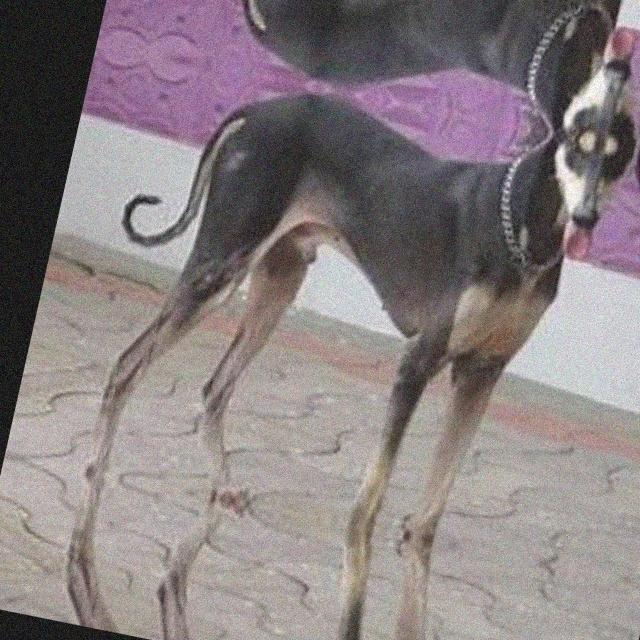dog: (73, 56, 640, 552), (36, 482, 552, 640), (162, 0, 640, 151)
